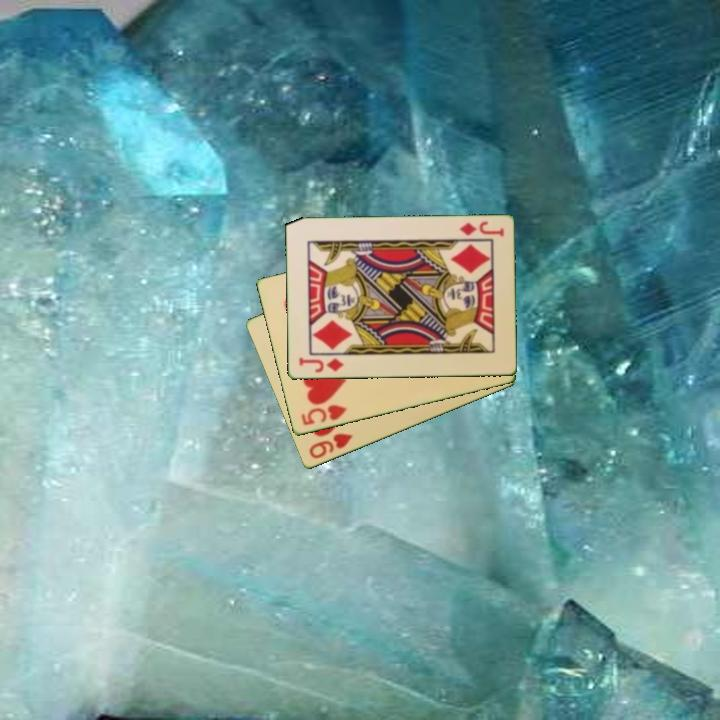5h: (297, 401, 349, 429)
9h: (305, 430, 355, 462)
Jd: (456, 218, 506, 240), (295, 354, 346, 375)
